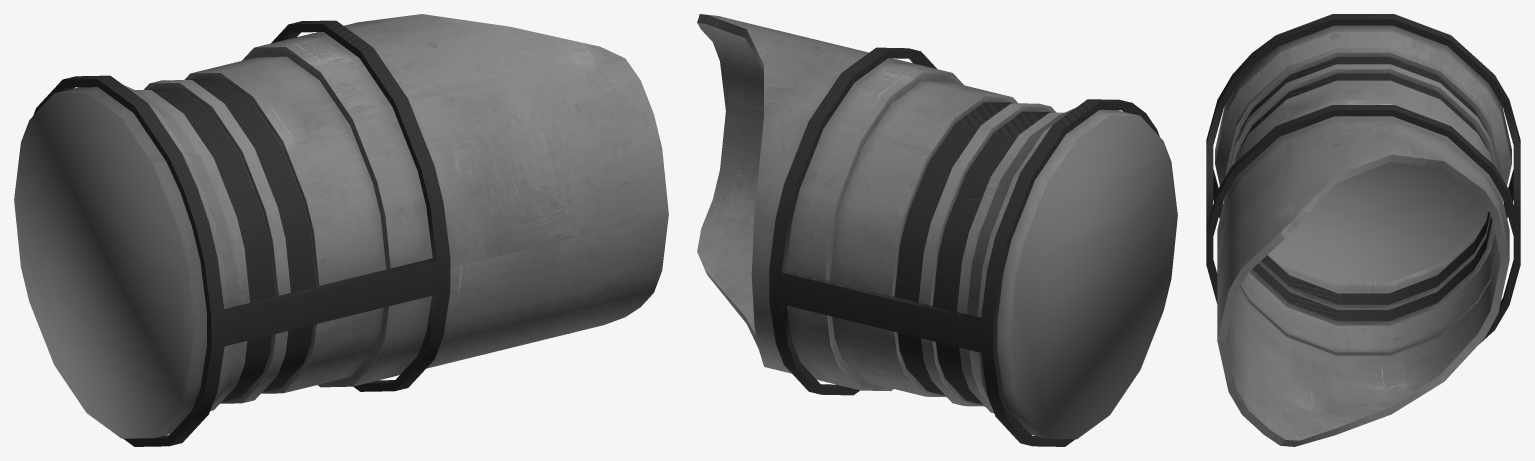
Rendered from guard_1_c_a.glb.
3 views of the same model, side by side, from view 1: azimuth 30°, elevation 25°; view 2: azimuth 150°, elevation 25°; view 3: azimuth 270°, elevation 25° (orthographic). The views are drawn at different scales.
Visible parts, largest first — view 1: guard_1_c_a_lod0; view 2: guard_1_c_a_lod0; view 3: guard_1_c_a_lod0.
Boxes of the visible parts, bbox=[...] form: guard_1_c_a_lod0: bbox=[14, 14, 668, 446]; guard_1_c_a_lod0: bbox=[697, 14, 1177, 446]; guard_1_c_a_lod0: bbox=[1206, 14, 1520, 446].
Size of what is drawn, in the model's own units: 0.0473 by 0.0324 by 0.0328.
Materials: 1 (1 with a texture image).
